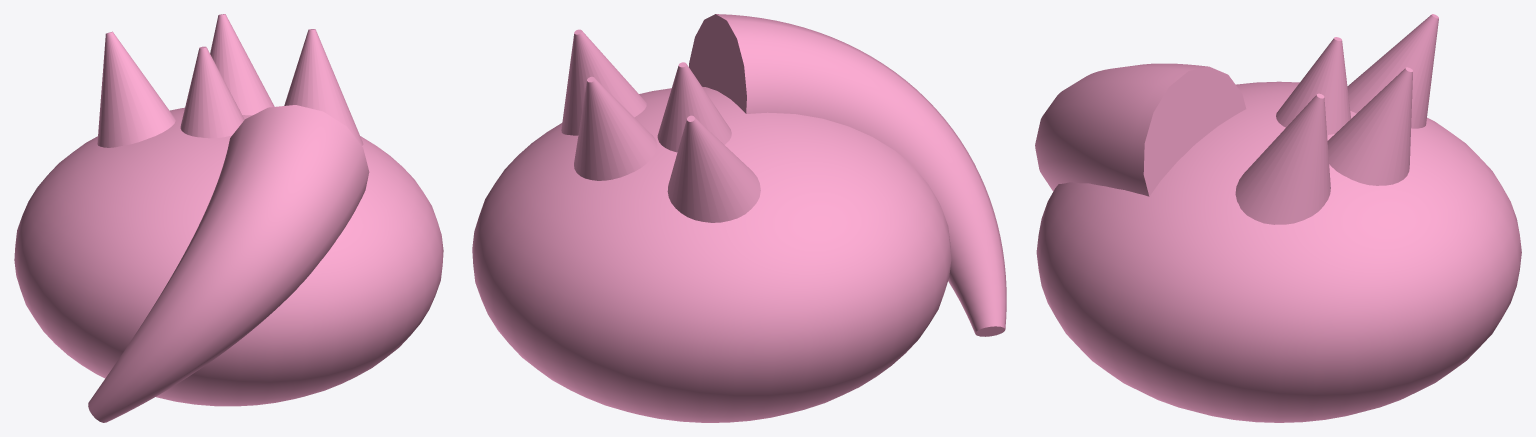
Rendered from vi_hair.glb.
3 views of the same model, side by side, from view 1: azimuth 30°, elevation 25°; view 2: azimuth 150°, elevation 25°; view 3: azimuth 270°, elevation 25° (orthographic). The views are drawn at different scales.
Parts seen in each view (by area): view 1: vi_hair; view 2: vi_hair; view 3: vi_hair.
Part boxes in pixels (x1,y1,x2,y2): vi_hair: [14, 14, 443, 422]; vi_hair: [472, 14, 1006, 422]; vi_hair: [1035, 14, 1521, 422].
Bounding box in the file's own units: 0.4883 × 0.3746 × 0.4714.
